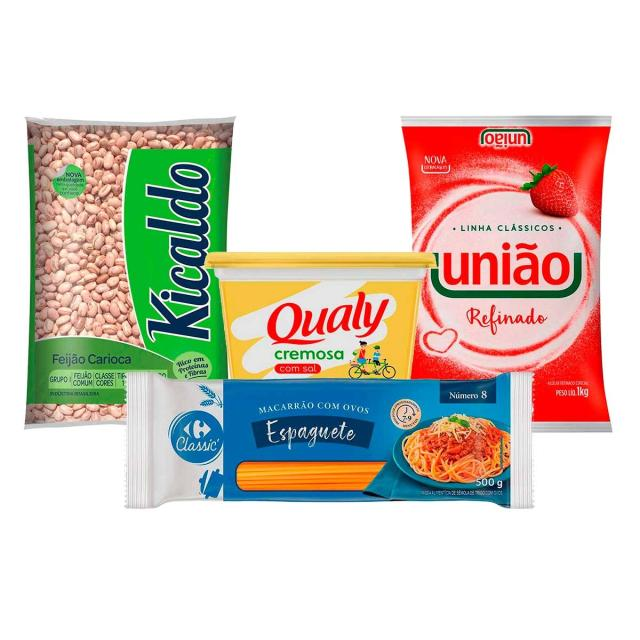beans package: (26, 119, 233, 425)
pasta package: (126, 373, 532, 507)
